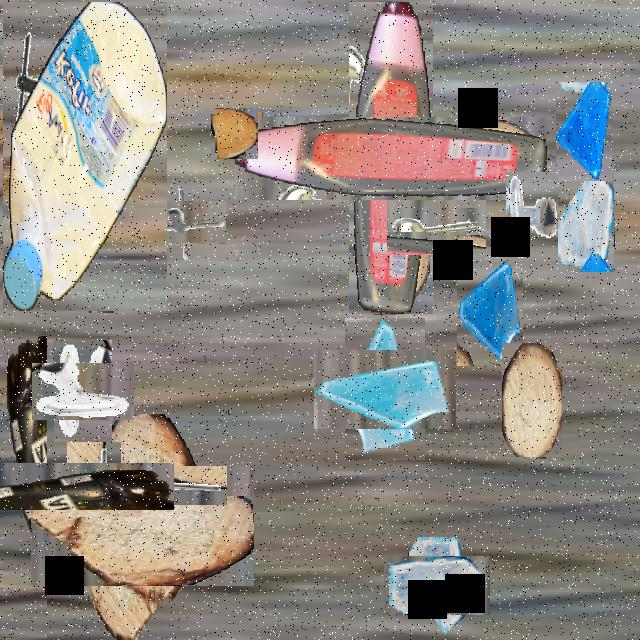glass: (330, 334, 440, 445), (457, 249, 523, 366), (396, 543, 478, 627), (554, 165, 614, 272), (556, 82, 612, 181)
metal: (5, 176, 65, 283), (43, 351, 123, 431), (398, 189, 476, 266), (56, 453, 132, 528), (506, 172, 558, 265), (156, 192, 218, 252)
plastic: (3, 2, 167, 311), (292, 59, 490, 257), (0, 399, 110, 574)
wood: (56, 440, 228, 612), (502, 343, 562, 457), (352, 16, 426, 73), (213, 110, 261, 157)
